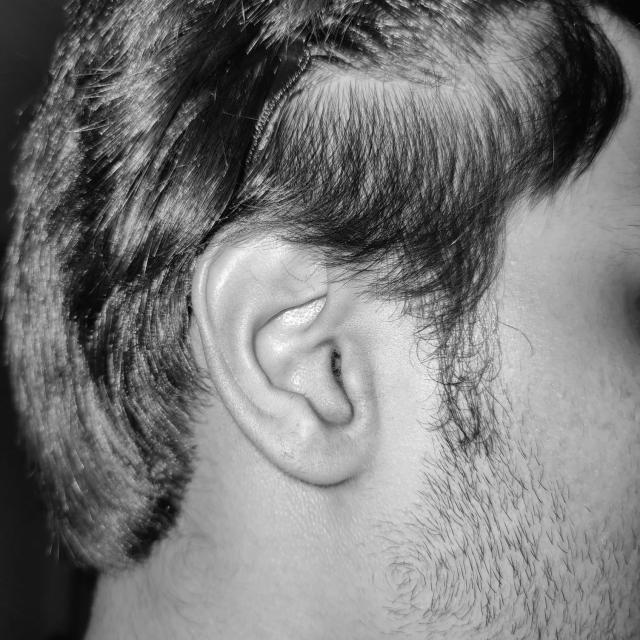ear: (192, 234, 377, 484)
